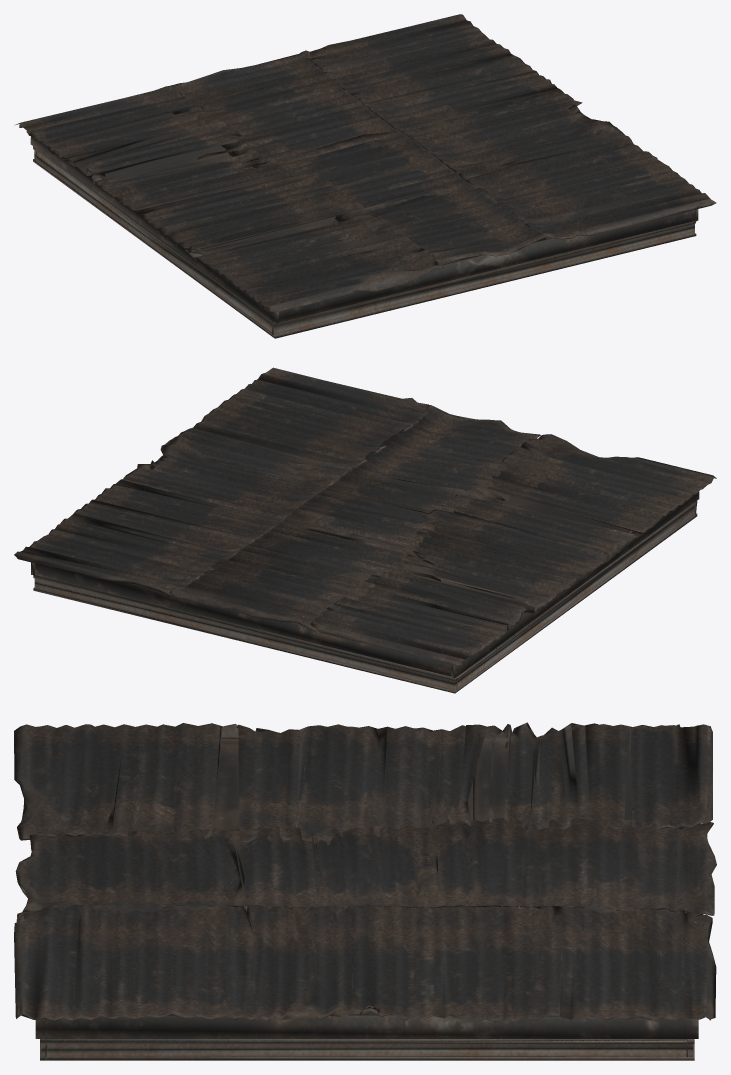
The model's file is RoofModule.fbx.
3 renders of one model, top to bottom at view 1: azimuth 30°, elevation 25°; view 2: azimuth 150°, elevation 25°; view 3: azimuth 270°, elevation 25°, orthographic. The views are drawn at different scales.
Visible parts, largest first — view 1: Mesh_0; view 2: Mesh_0; view 3: Mesh_0.
Part boxes in pixels (bbox=[...]): Mesh_0: bbox=[14, 14, 716, 338]; Mesh_0: bbox=[14, 367, 716, 693]; Mesh_0: bbox=[14, 722, 716, 1060].
Size of the model in its own units: 94.92 by 8.5 by 95.12.
1 material, 1 textured.
